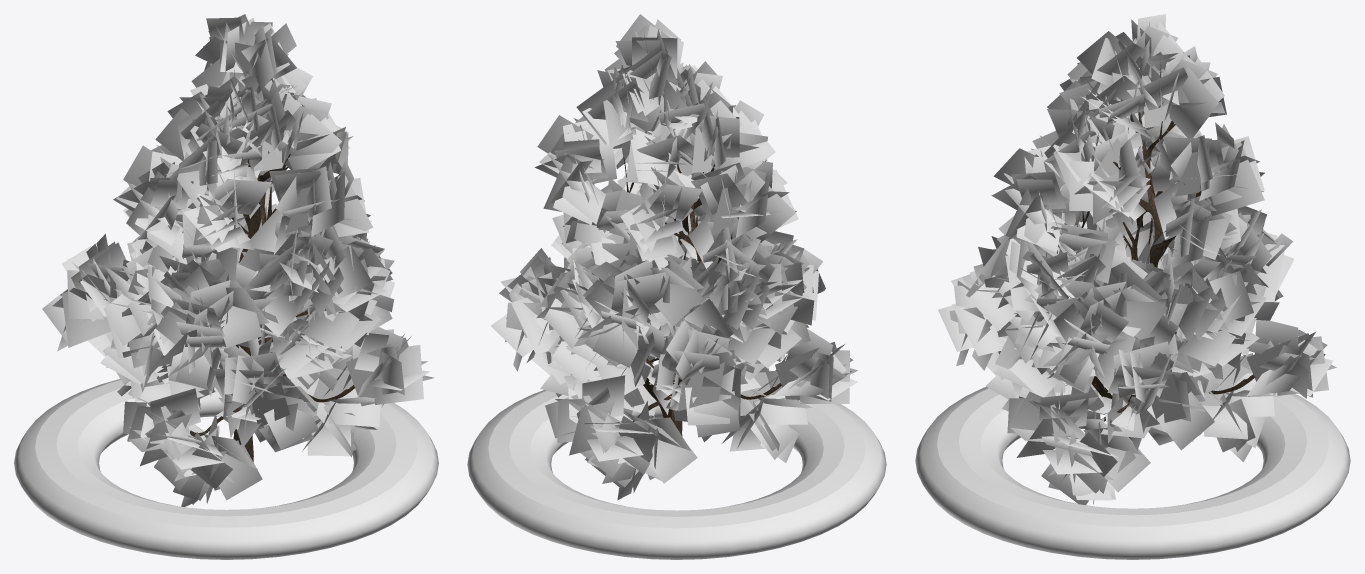
Rendered from edificio5 parte4.fbx.
The picture shows the model from 3 angles, left to right: view 1: azimuth 30°, elevation 25°; view 2: azimuth 150°, elevation 25°; view 3: azimuth 270°, elevation 25°; orthographic projection. The views are drawn at different scales.
Visible parts, largest first — view 1: Bark.002, Torus; view 2: Bark.002, Torus; view 3: Bark.002, Torus.
Part boxes in pixels (bbox=[...]): Bark.002: bbox=[42, 14, 434, 506]; Torus: bbox=[14, 377, 438, 559]; Bark.002: bbox=[491, 14, 857, 500]; Torus: bbox=[467, 390, 886, 559]; Bark.002: bbox=[938, 14, 1336, 504]; Torus: bbox=[915, 386, 1350, 559].
Size of the model in its own units: 1442 by 1716 by 1442.
Materials: 2 (1 with a texture image).
